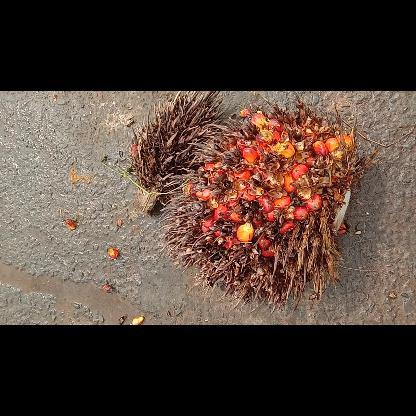Janjang kosong: (128, 91, 223, 215)
Terlalu masak: (158, 91, 366, 315)
